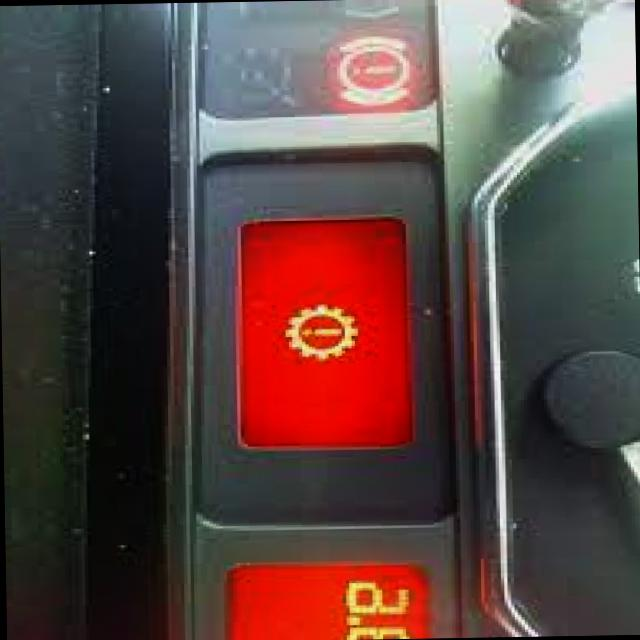kontrolka: (276, 296, 362, 362)
